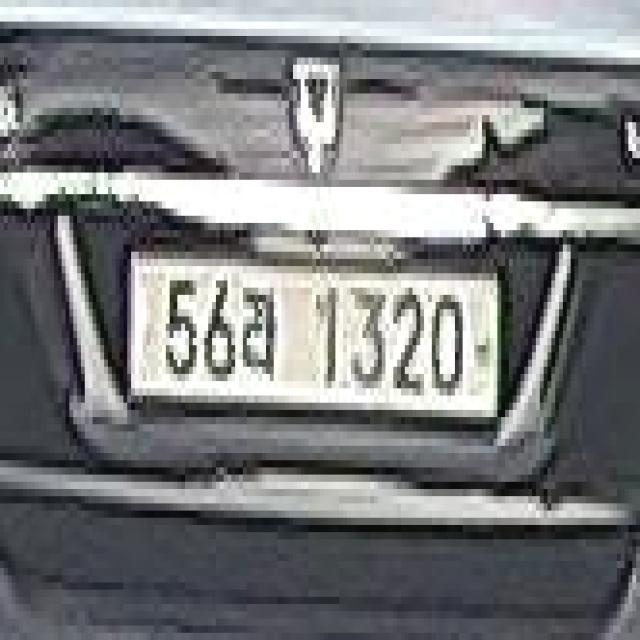illegal_plate: (126, 240, 507, 438)
